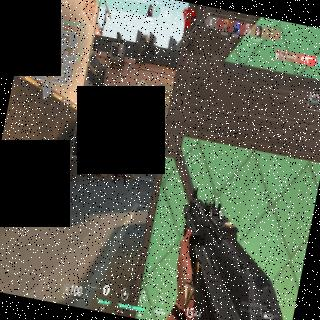ENEMY-BODY: (113, 146, 130, 184)
ENEMY-HEAD: (123, 148, 126, 153)
